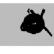not correct: (19, 6, 53, 38)
